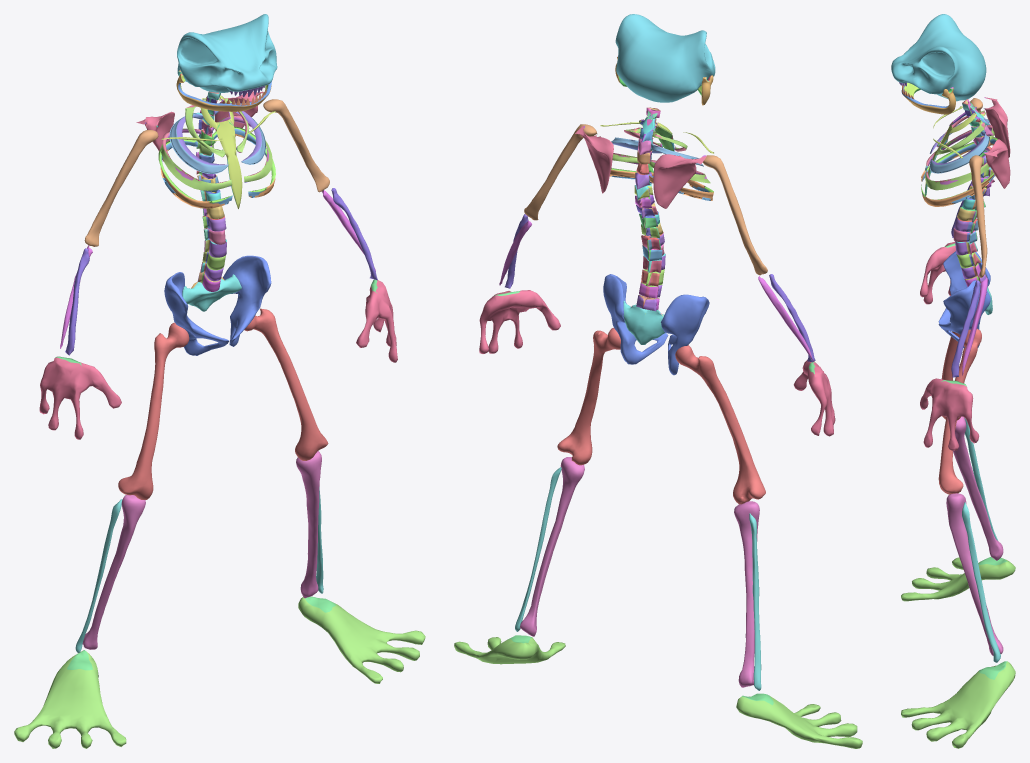
Rendered from SkeleFrog_Test.fbx.
The picture shows the model from 3 angles, left to right: view 1: azimuth 30°, elevation 25°; view 2: azimuth 150°, elevation 25°; view 3: azimuth 270°, elevation 25°; orthographic projection. The views are drawn at different scales.
Parts seen in each view (by area): view 1: Frog_Skull1; view 2: Frog_Skull1; view 3: Frog_Skull1.
Boxes of the visible parts, <box> form: Frog_Skull1: <box>14,14,425,748</box>; Frog_Skull1: <box>454,14,862,748</box>; Frog_Skull1: <box>891,14,1015,748</box>.
Size of the model in its own units: 194 by 307 by 55.1.
